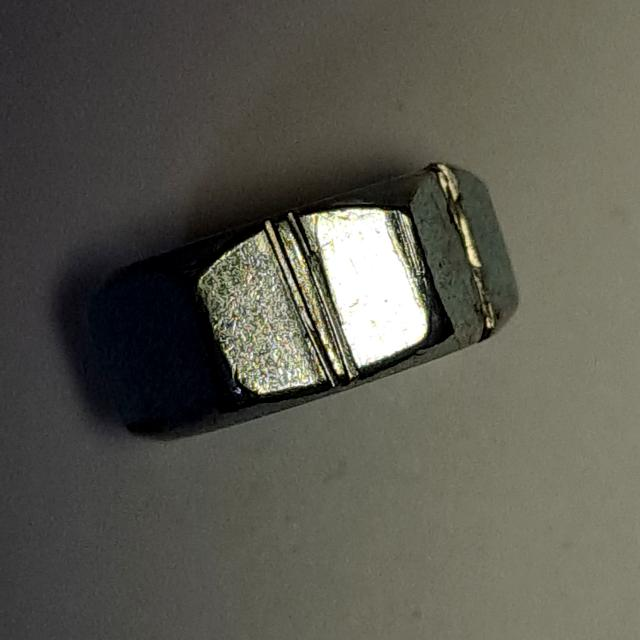Side_Scratches: (75, 134, 535, 466)
